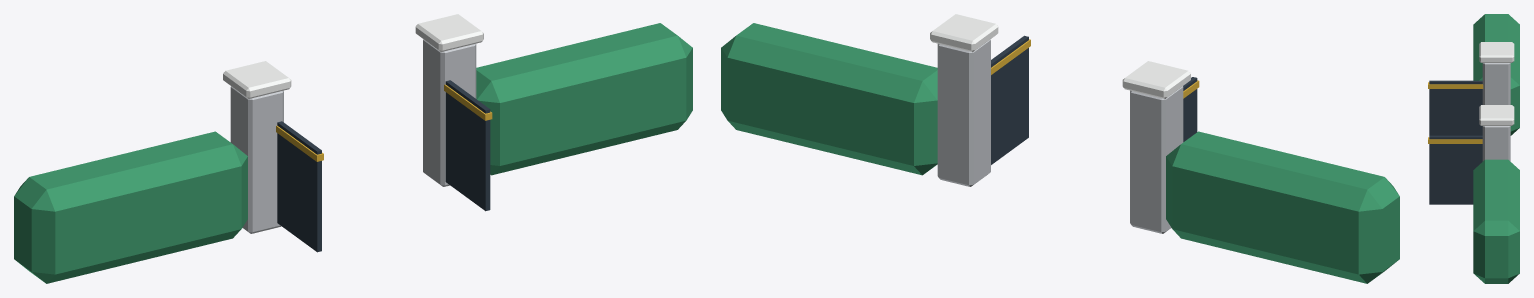
File: gate_open.fbx
3 renders of one model, left to right at view 1: azimuth 30°, elevation 25°; view 2: azimuth 150°, elevation 25°; view 3: azimuth 270°, elevation 25°, orthographic. The views are drawn at different scales.
Parts seen in each view (by area): view 1: gate_open; view 2: gate_open; view 3: gate_open.
Part boxes in pixels (box(x1,y1,x2,y2)): gate_open: box(14, 14, 692, 283); gate_open: box(721, 14, 1399, 283); gate_open: box(1428, 14, 1519, 283).
Bounding box in the file's own units: 11 × 2.38 × 1.98.
